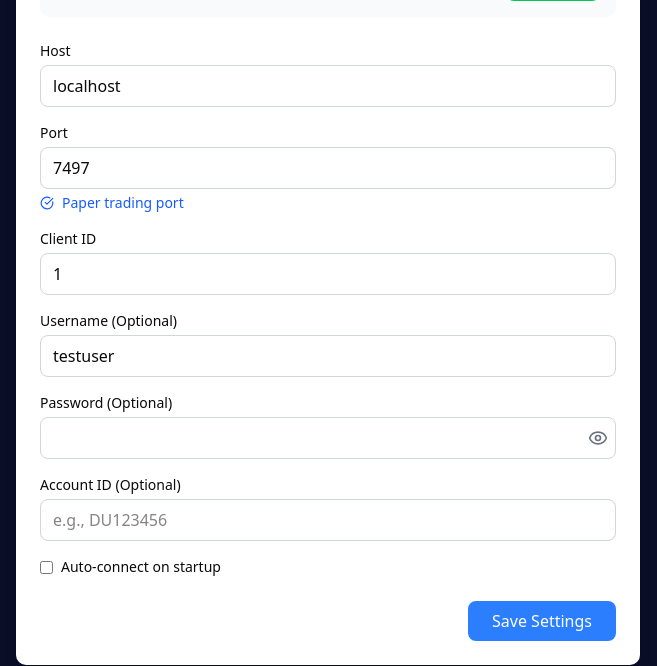
it: IBSettings › Settings Management › should handle save errors gracefully
The image size is (657, 666).
(page scrolled)
Click the button "Save Settings" at (542, 621), box [468,601,616,641]
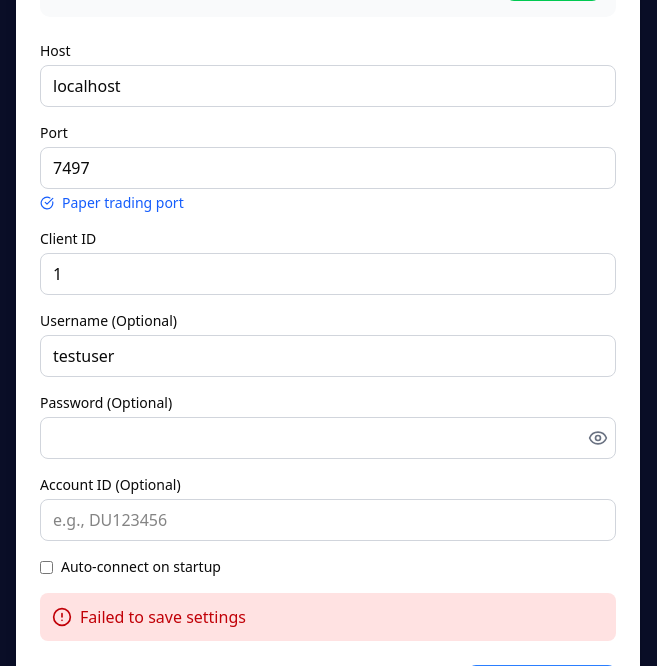
Now the text "Failed to save settings" is shown, box [80,605,246,629]
